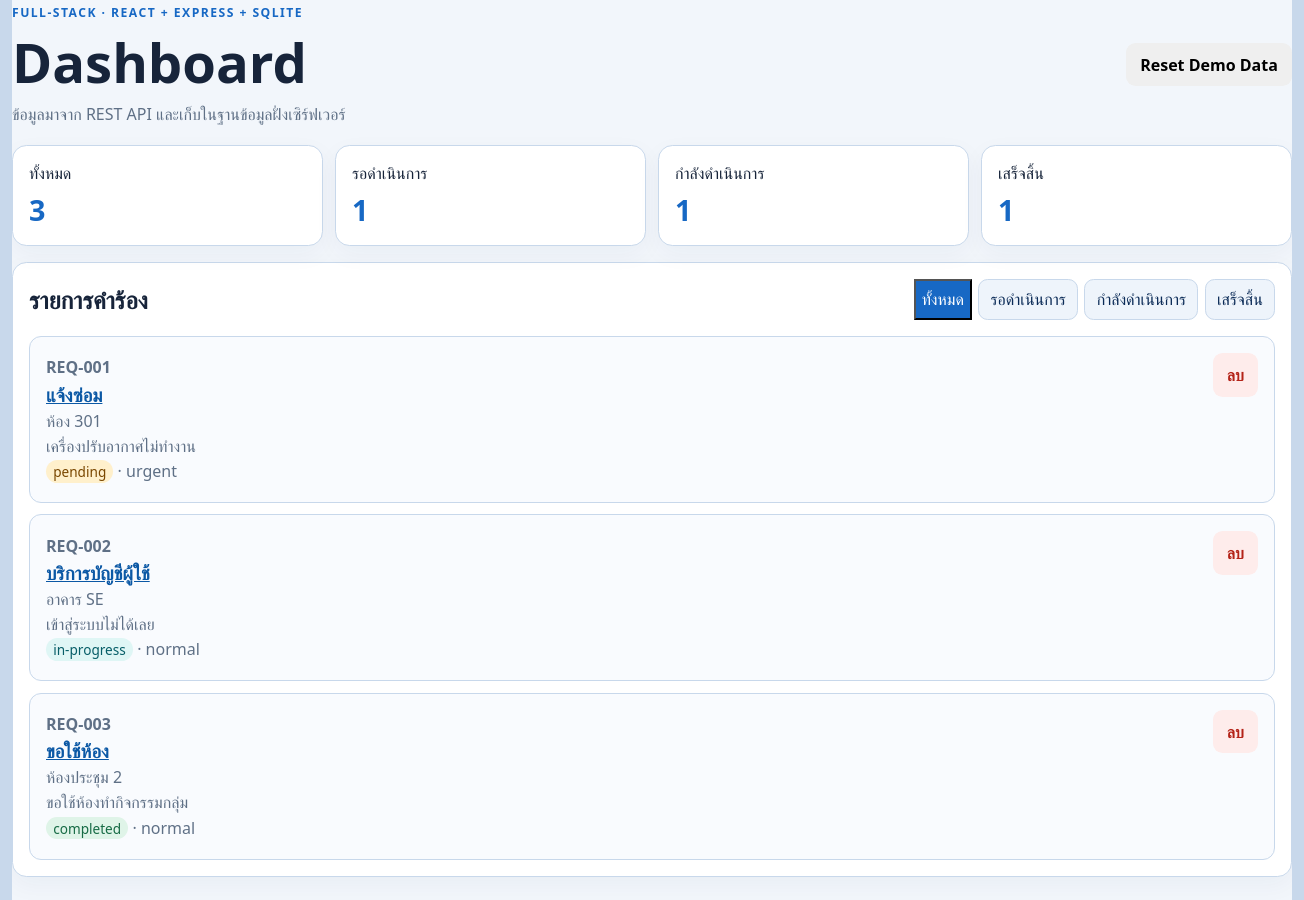
DashboardPage › ลบไม่สำเร็จ -> แจ้งข้อความ และรายการเดิมยังอยู่
Check: the element with test id "request-list" is shown, box [29, 336, 1275, 860]
Click the button with aria-label "ลบคำร้อง REQ-001".
click(1235, 375)  # box [1213, 353, 1258, 397]
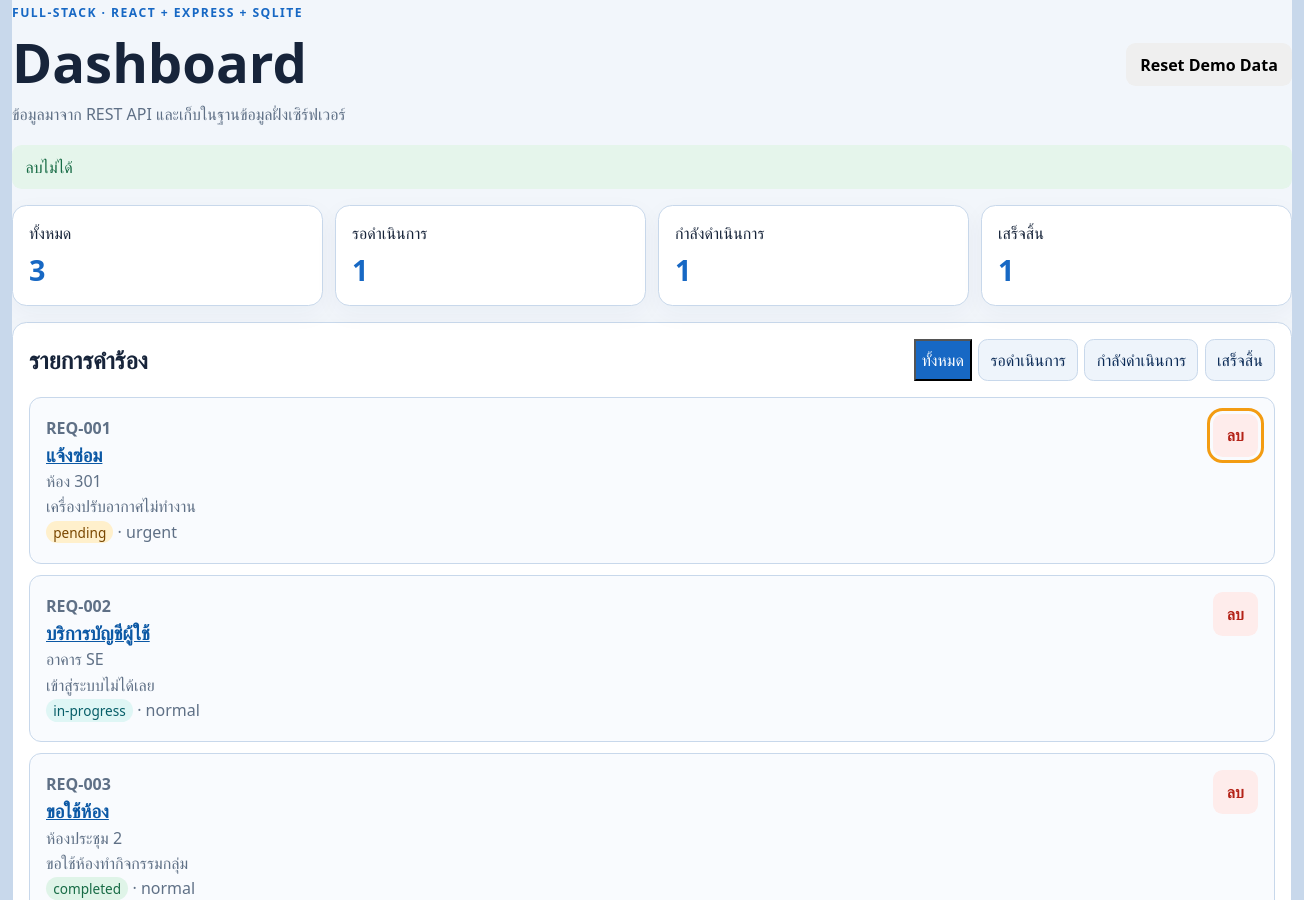
Check: the text "REQ-001" is shown, box [46, 417, 111, 439]
Check: the text "ลบไม่ได้" is shown, box [12, 145, 1292, 189]
